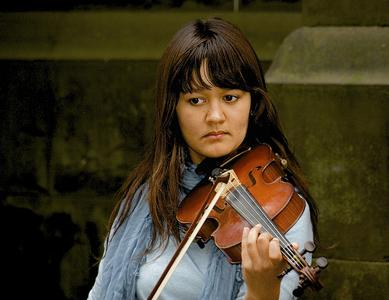person: (88, 16, 330, 300)
